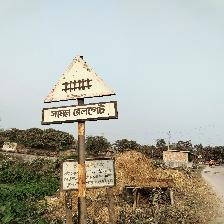Rail-crossing: (43, 56, 117, 125)
